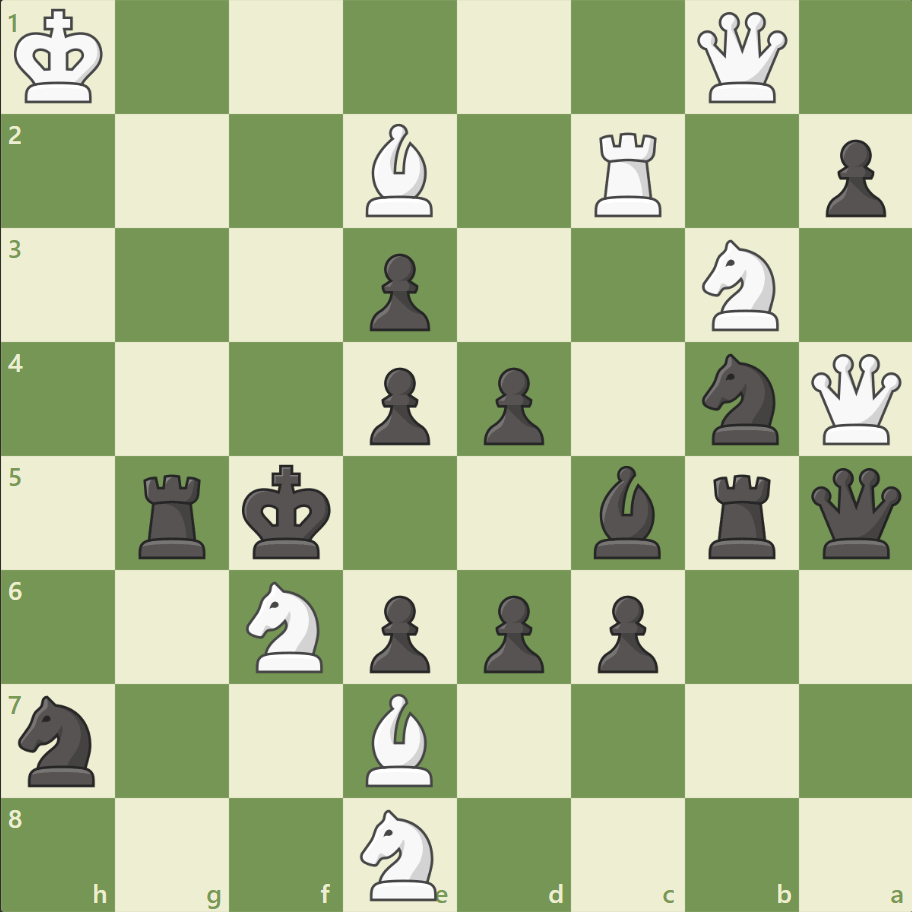B: (358, 687, 442, 790), (358, 120, 442, 222)
K: (11, 4, 111, 112)
N: (351, 802, 449, 904), (692, 234, 789, 337), (238, 575, 335, 677)
Q: (805, 349, 904, 449), (691, 9, 790, 108)
R: (587, 125, 670, 222)
b: (585, 460, 669, 563)
k: (238, 458, 338, 566)
n: (11, 688, 108, 791), (692, 348, 789, 450)
p: (474, 586, 549, 677), (474, 359, 549, 450), (588, 586, 662, 677), (361, 586, 435, 677), (361, 359, 435, 450), (361, 246, 435, 337), (815, 132, 889, 223)
q: (805, 463, 904, 562)
r: (700, 466, 783, 563), (133, 466, 215, 563)
